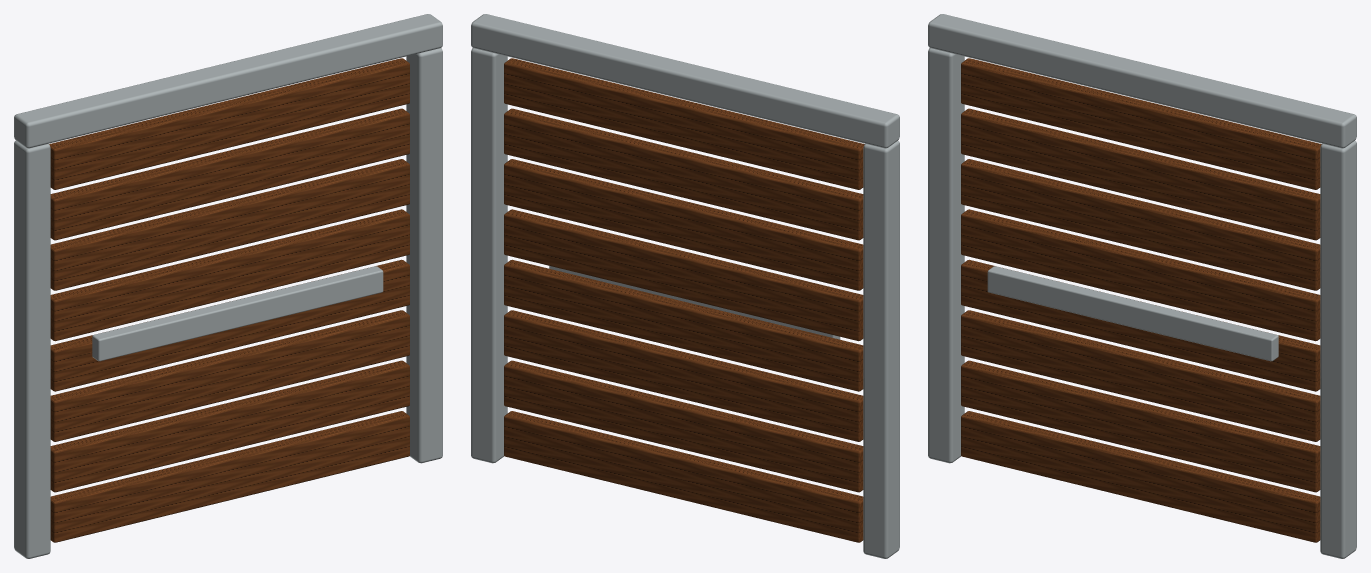
3 renders of one model, left to right at view 1: azimuth 30°, elevation 25°; view 2: azimuth 150°, elevation 25°; view 3: azimuth 330°, elevation 25°, orthographic.
Visible parts, largest first — view 1: trade-closed-shutter; view 2: trade-closed-shutter; view 3: trade-closed-shutter.
Part boxes in pixels (box(x1,y1,x2,y2)): trade-closed-shutter: box(14, 14, 442, 558); trade-closed-shutter: box(471, 14, 899, 558); trade-closed-shutter: box(928, 14, 1356, 558).
Bounding box in the file's own units: 1.17 × 1.17 × 0.0976.
Materials: 2 (1 with a texture image).
